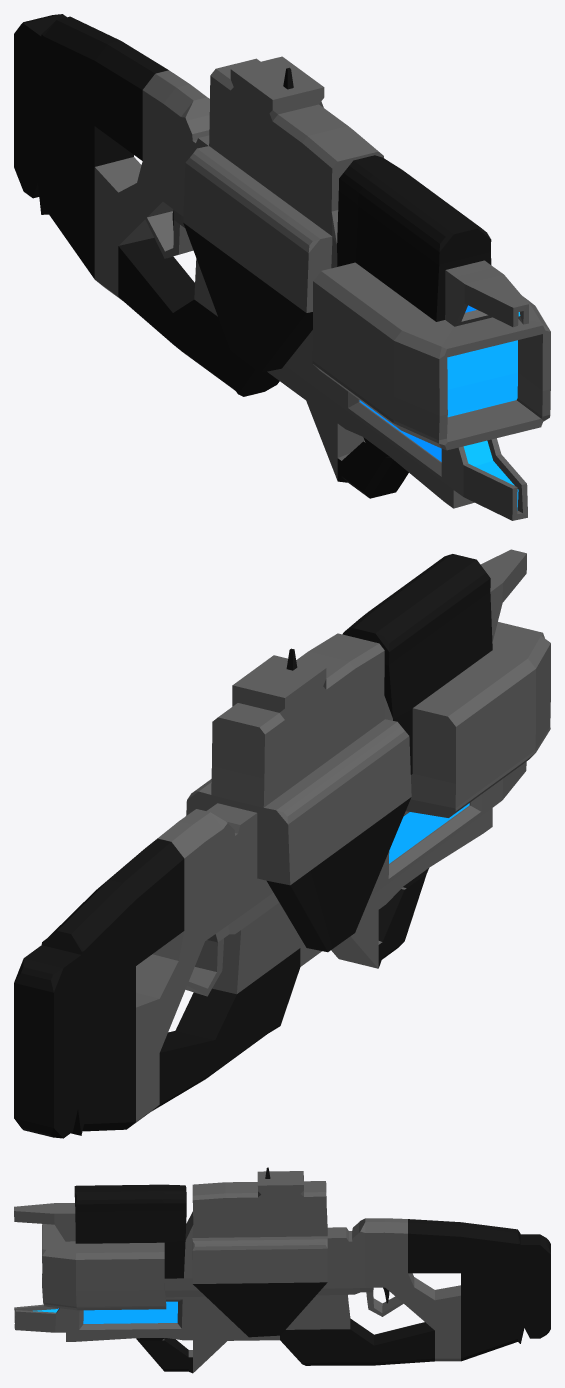
Rendered from charge_rifle.fbx.
3 renders of one model, top to bottom at view 1: azimuth 30°, elevation 25°; view 2: azimuth 150°, elevation 25°; view 3: azimuth 270°, elevation 25°, orthographic. The views are drawn at different scales.
Visible parts, largest first — view 1: charge_rifle; view 2: charge_rifle; view 3: charge_rifle.
Part boxes in pixels (x1=…): charge_rifle: x1=14, y1=14, x2=550, y2=520; charge_rifle: x1=14, y1=549, x2=550, y2=1138; charge_rifle: x1=14, y1=1167, x2=550, y2=1373.
Bounding box in the file's own units: 18.02 × 43.24 × 105.
